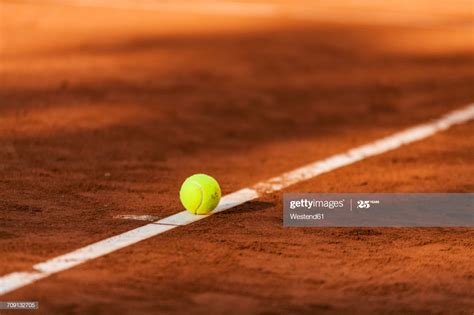tennis_ball: (180, 173, 221, 215)
